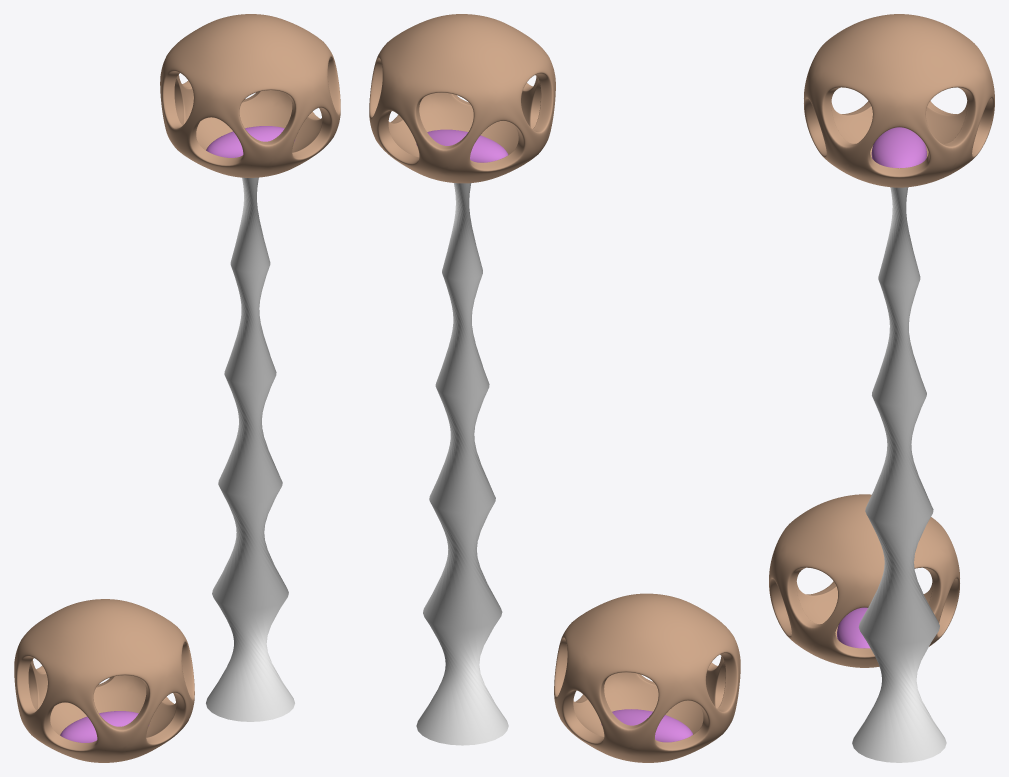
File: Park Light-fbx.FBX
The picture shows the model from 3 angles, left to right: view 1: azimuth 30°, elevation 25°; view 2: azimuth 150°, elevation 25°; view 3: azimuth 270°, elevation 25°; orthographic projection. The views are drawn at different scales.
Visible parts, largest first — view 1: GeoSphere002, GeoSphere001, Cone001, Sphere002, Sphere001; view 2: GeoSphere001, GeoSphere002, Cone001, Sphere001, Sphere002; view 3: Cone001, GeoSphere002, GeoSphere001, Sphere002, Sphere001.
Boxes of the visible parts, left/top/right/bottom form: GeoSphere002: left=160, top=14, right=340, bottom=177; GeoSphere001: left=14, top=599, right=194, bottom=762; Cone001: left=206, top=177, right=294, bottom=721; Sphere002: left=206, top=126, right=295, bottom=157; Sphere001: left=60, top=711, right=148, bottom=742; GeoSphere001: left=554, top=593, right=740, bottom=762; GeoSphere002: left=369, top=14, right=555, bottom=183; Cone001: left=416, top=183, right=508, bottom=745; Sphere001: left=601, top=709, right=692, bottom=742; Sphere002: left=416, top=129, right=508, bottom=162; Cone001: left=852, top=187, right=946, bottom=762; GeoSphere002: left=804, top=14, right=994, bottom=187; GeoSphere001: left=769, top=494, right=959, bottom=667; Sphere002: left=871, top=127, right=926, bottom=168; Sphere001: left=837, top=607, right=870, bottom=648.
Bounding box in the file's own units: 287 × 585 × 166.
